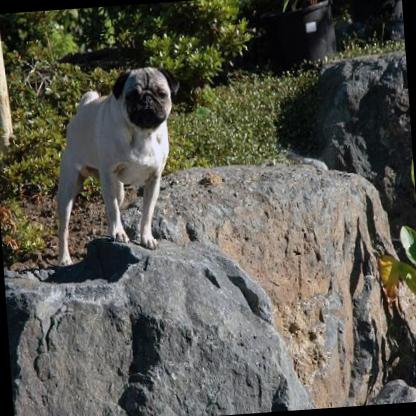pug: (42, 61, 195, 268)
